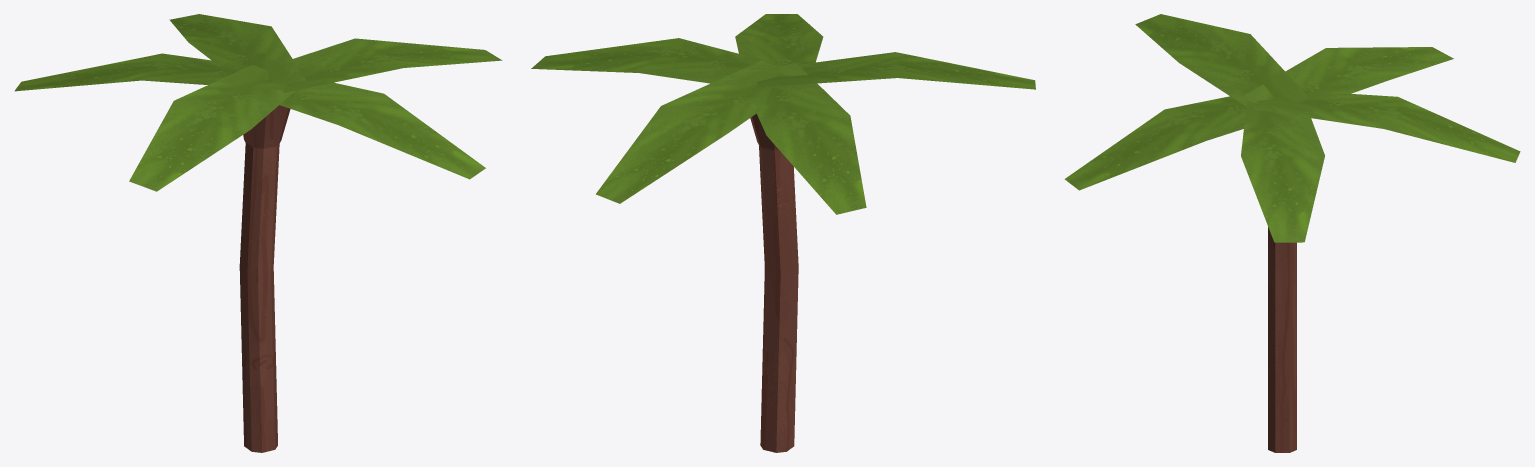
File: SM_palm1.fbx
3 renders of one model, left to right at view 1: azimuth 30°, elevation 25°; view 2: azimuth 150°, elevation 25°; view 3: azimuth 270°, elevation 25°, orthographic. The views are drawn at different scales.
Parts seen in each view (by area): view 1: palm1; view 2: palm1; view 3: palm1.
Boxes of the visible parts, x1,y1,x2,y2 form: palm1: [14, 14, 502, 452]; palm1: [531, 14, 1035, 452]; palm1: [1064, 14, 1520, 452].
Size of the model in its own units: 23.37 by 19.72 by 22.37.
